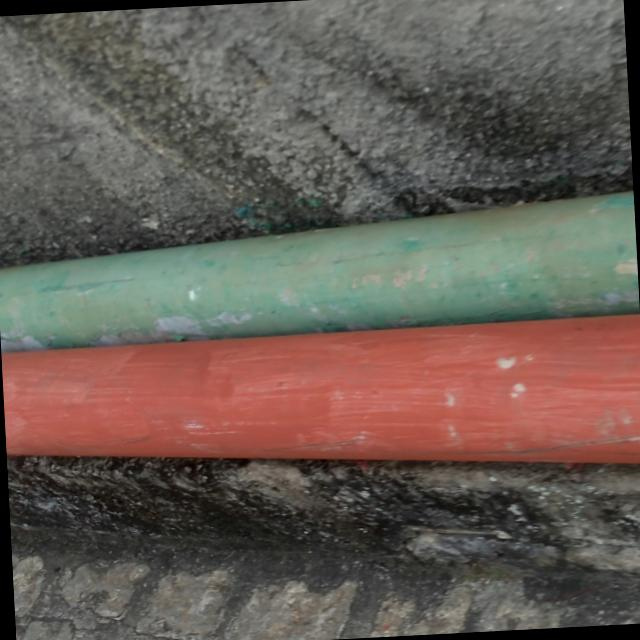gas: (2, 315, 640, 497), (0, 192, 640, 351)
